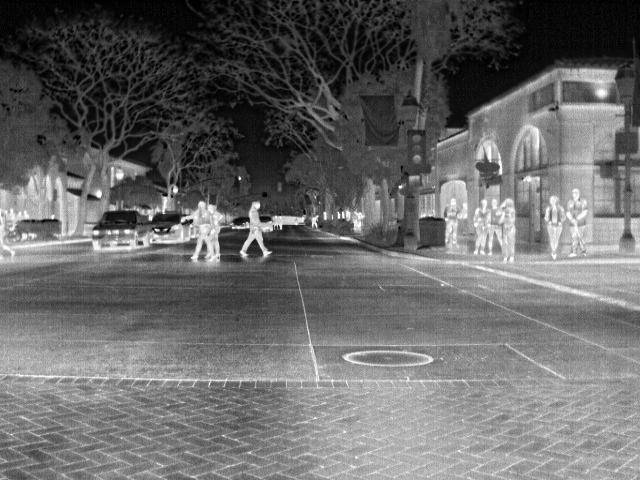car: (90, 209, 152, 255), (146, 210, 191, 247), (258, 214, 275, 232), (229, 216, 249, 230)
person: (238, 199, 273, 257), (189, 198, 218, 260), (544, 193, 567, 264), (565, 189, 589, 257), (498, 196, 518, 262), (438, 194, 460, 250), (204, 204, 225, 262), (486, 195, 503, 256), (472, 199, 490, 256)
